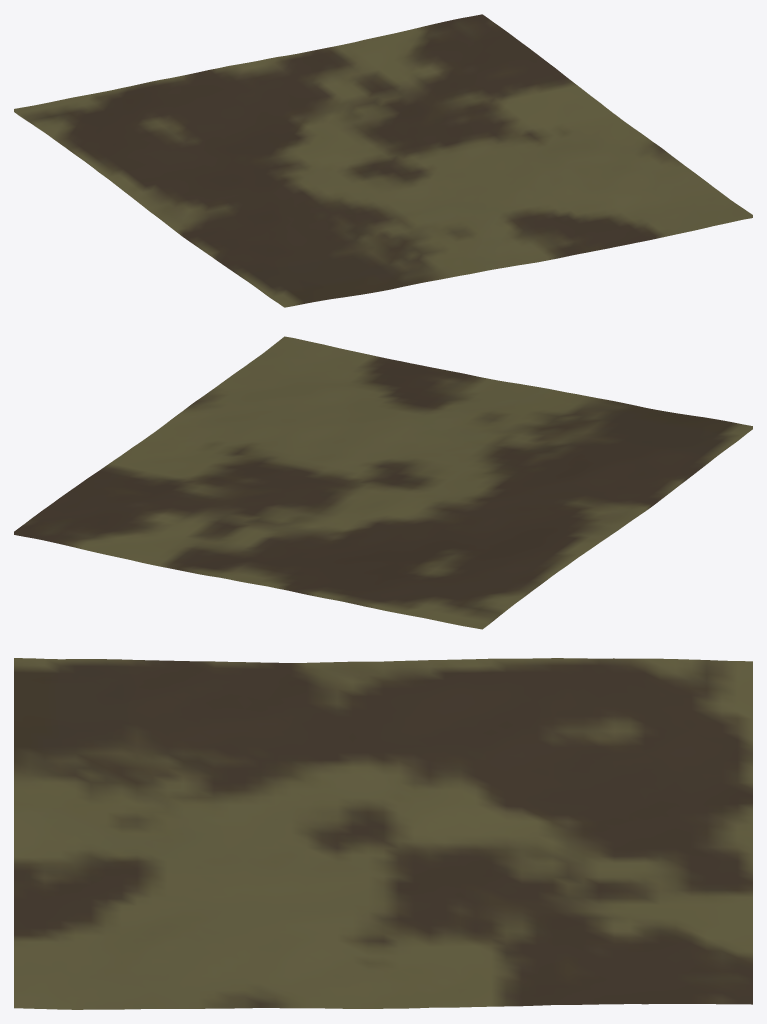
File: land_m_00_06.glb
3 renders of one model, top to bottom at view 1: azimuth 30°, elevation 25°; view 2: azimuth 150°, elevation 25°; view 3: azimuth 270°, elevation 25°, orthographic. The views are drawn at different scales.
Visible parts, largest first — view 1: land_m_00_06; view 2: land_m_00_06; view 3: land_m_00_06.
Part boxes in pixels (box(x1,y1,x2,y2)): land_m_00_06: box(14, 14, 752, 307); land_m_00_06: box(14, 336, 752, 629); land_m_00_06: box(14, 658, 752, 1009).
Bounding box in the file's own units: 960 × 56.66 × 960.
